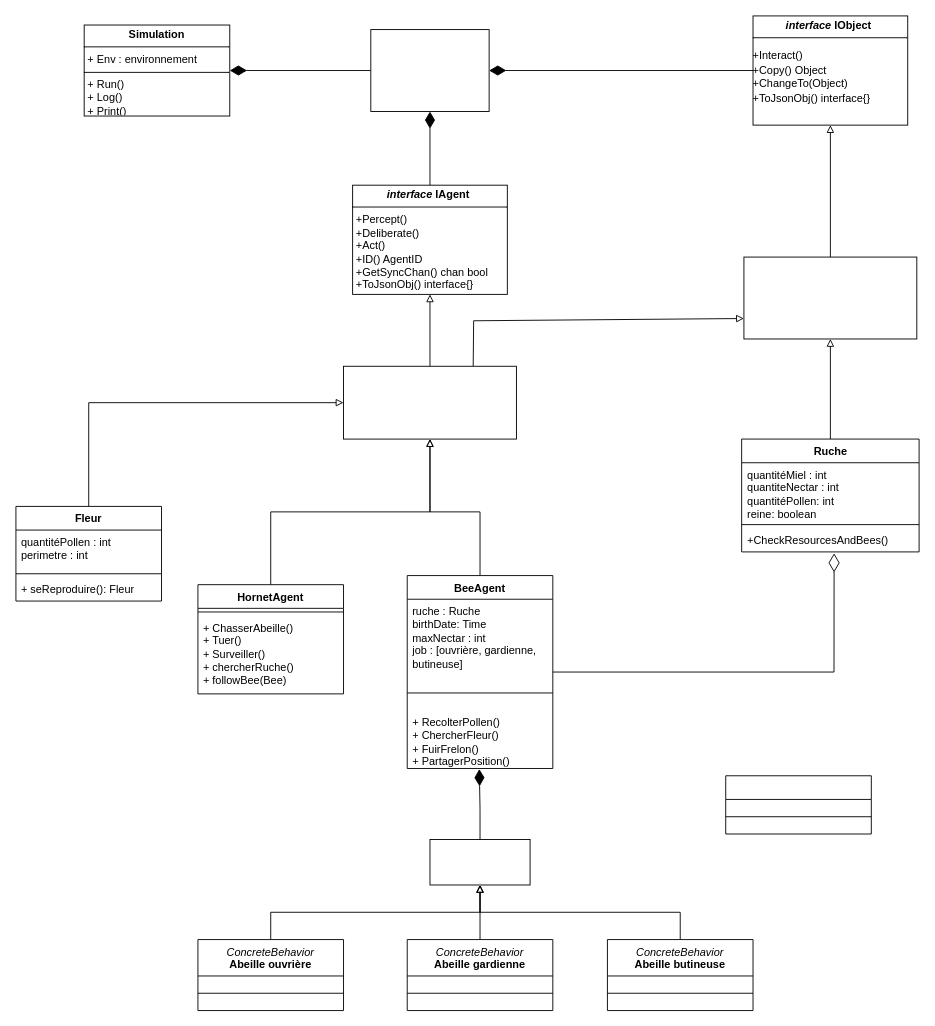
The diagram is 935 pixels wide and 1026 high, and some of its shapes have lost their labels. Here are the shapes that lost their labels. From the top down, the centre of each, then its label:
(429,70): Environnement -Object: []Object -Agent : []Agent
(830,297): <<Abstract>> Object position : {X,Y}
(429,402): <<Abstract>> Agent vitesse : int
(798,804): Colonie
(479,862): «interface» BeeBehavior
